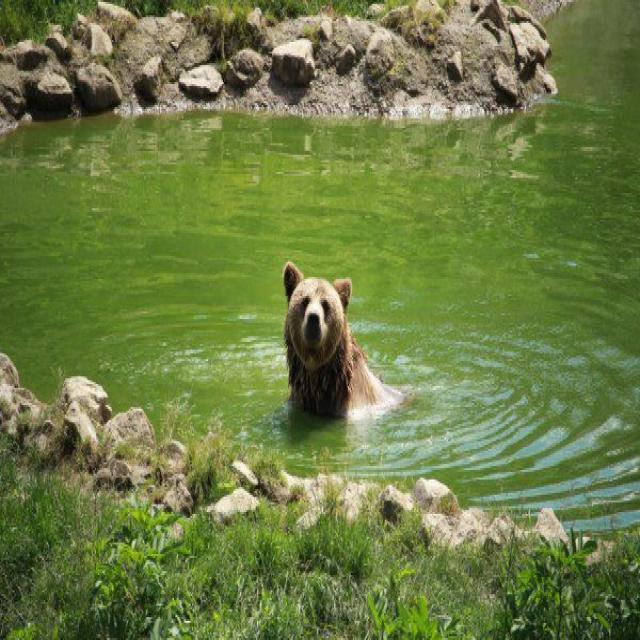bear: (220, 250, 395, 464)
